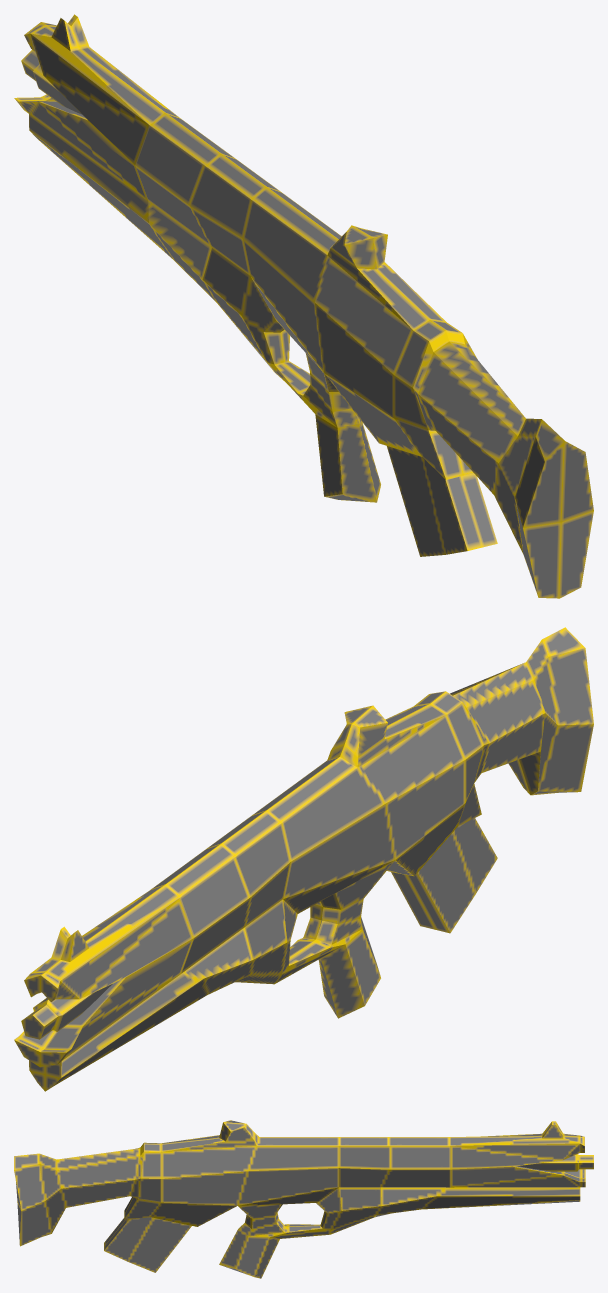
The model's file is AssaultRifle.fbx.
3 views of the same model, one above another, from view 1: azimuth 30°, elevation 25°; view 2: azimuth 150°, elevation 25°; view 3: azimuth 270°, elevation 25° (orthographic). The views are drawn at different scales.
Parts seen in each view (by area): view 1: AssaultRifle; view 2: AssaultRifle; view 3: AssaultRifle.
Boxes of the visible parts, box(x1,y1,x2,y2) form: AssaultRifle: box(14, 14, 593, 598); AssaultRifle: box(14, 627, 593, 1091); AssaultRifle: box(14, 1120, 593, 1278).
Size of the model in its own units: 0.3192 by 1.23 by 4.14.
1 material, 1 textured.
